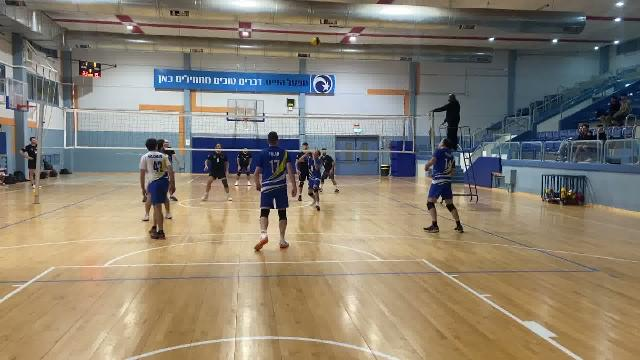ball: (309, 38, 324, 49)
